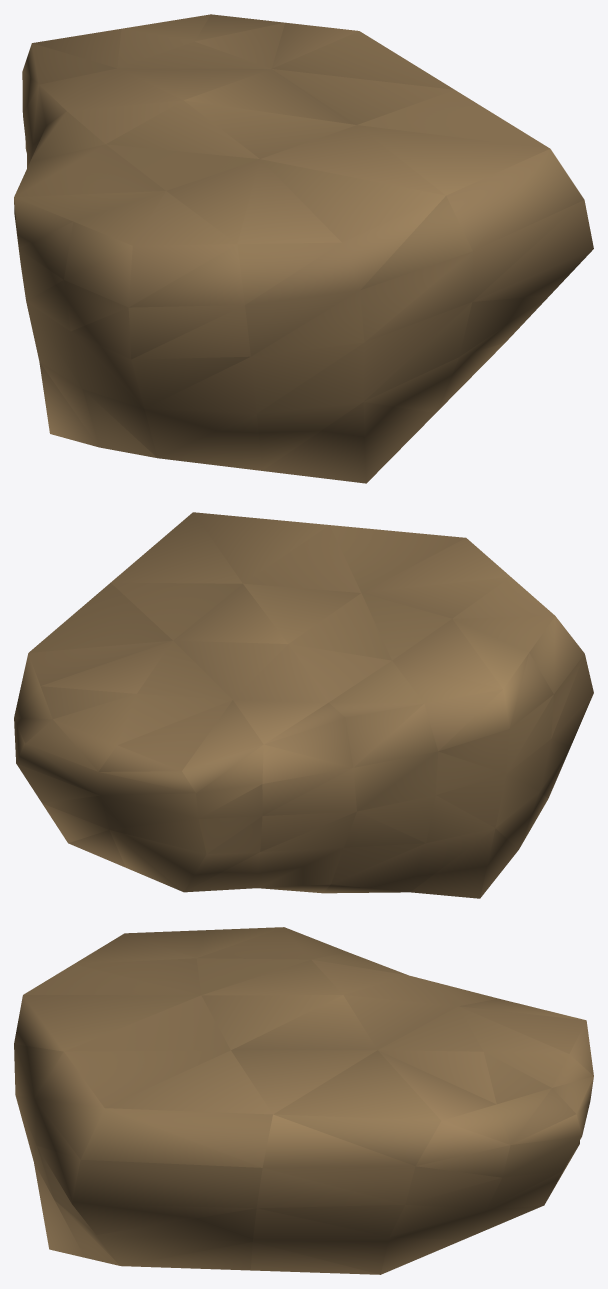
File: SandChunk.010.glb
3 renders of one model, top to bottom at view 1: azimuth 30°, elevation 25°; view 2: azimuth 150°, elevation 25°; view 3: azimuth 270°, elevation 25°, orthographic. The views are drawn at different scales.
Visible parts, largest first — view 1: SandChunk.010; view 2: SandChunk.010; view 3: SandChunk.010.
Boxes of the visible parts, x1=… form: SandChunk.010: x1=14, y1=14, x2=593, y2=483; SandChunk.010: x1=14, y1=512, x2=593, y2=898; SandChunk.010: x1=14, y1=927, x2=593, y2=1274.
Bounding box in the file's own units: 6.51 × 3.61 × 7.73.
